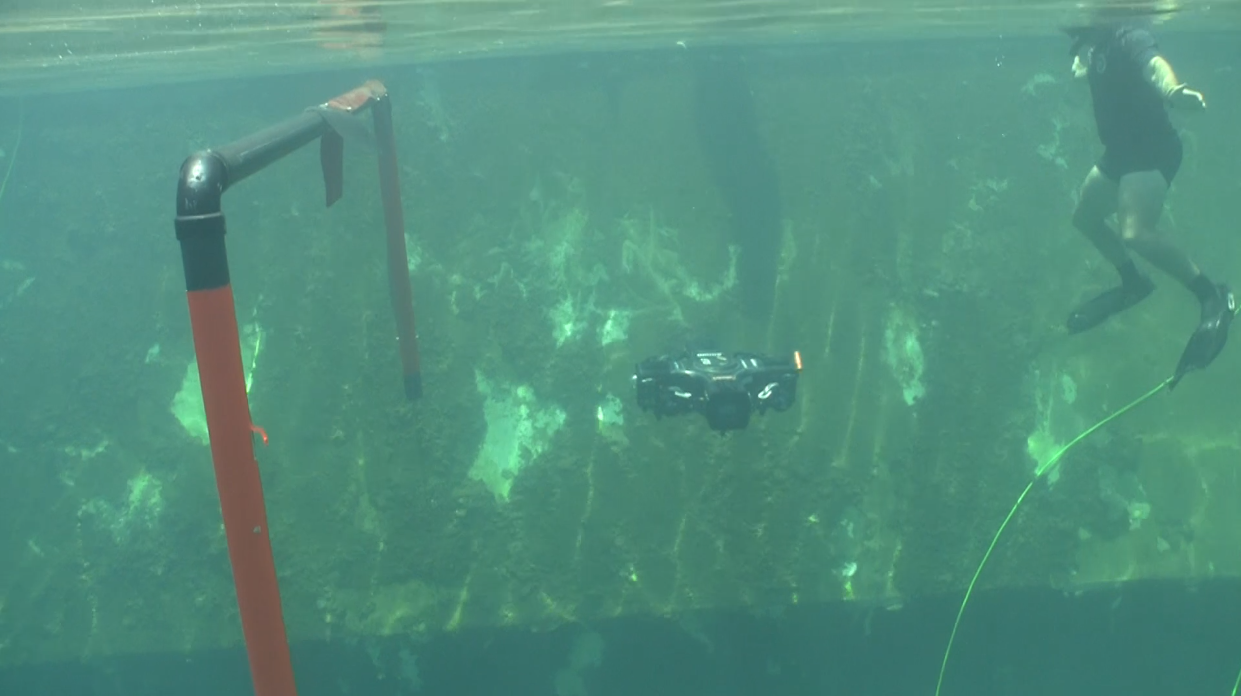gate: (163, 71, 431, 689)
